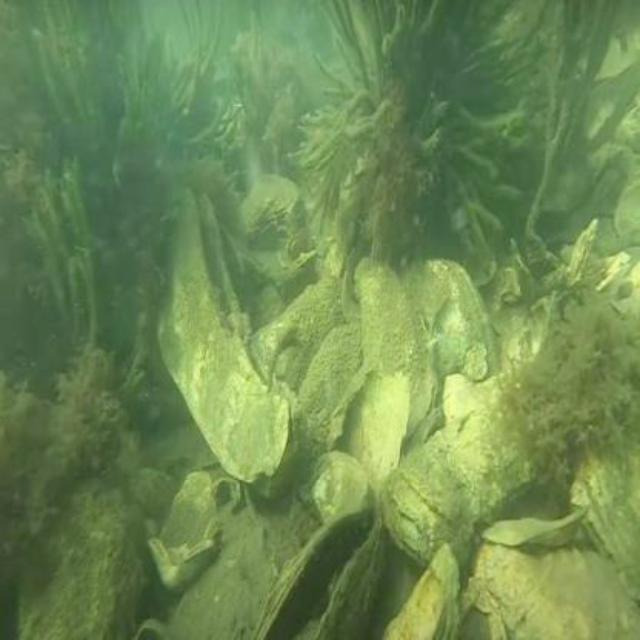Oyster-Closed: (159, 191, 289, 483), (475, 538, 640, 640), (400, 251, 500, 398), (357, 262, 433, 432), (446, 370, 535, 515), (382, 425, 474, 560), (297, 326, 366, 491), (384, 543, 467, 640), (452, 164, 499, 289), (159, 474, 223, 550), (232, 174, 298, 240), (152, 533, 218, 587), (566, 224, 597, 285)
Oyster-Open: (256, 493, 385, 640), (126, 618, 168, 640)
